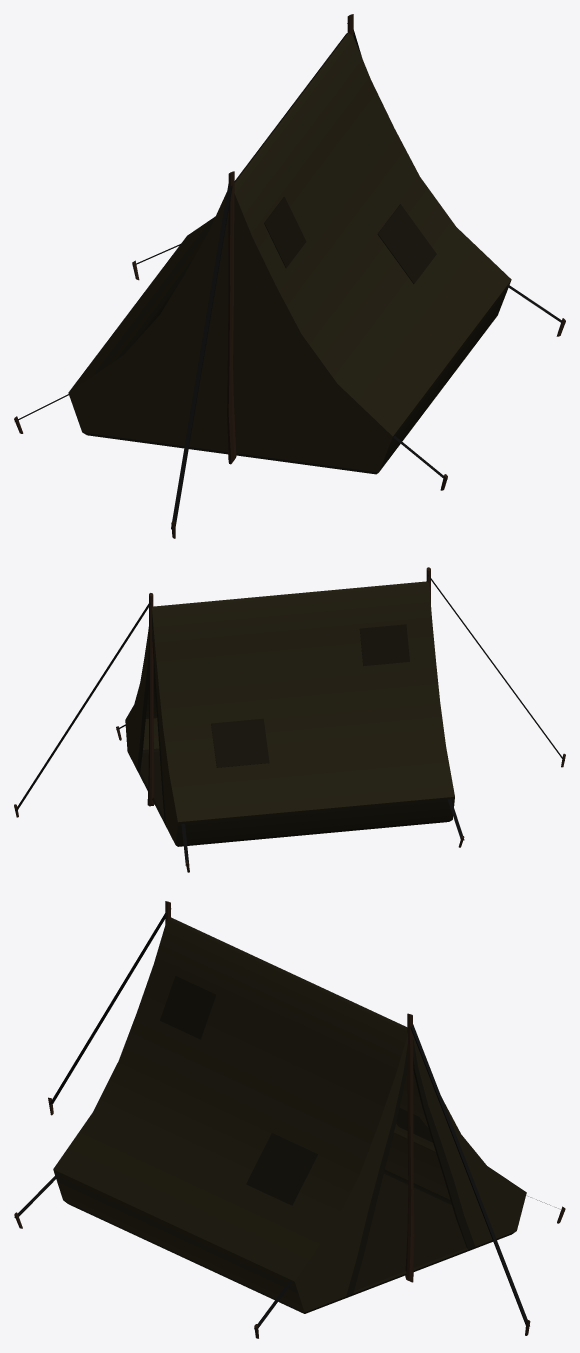
File: Tent.fbx
The picture shows the model from 3 angles, top to bottom: view 1: azimuth 30°, elevation 25°; view 2: azimuth 150°, elevation 25°; view 3: azimuth 270°, elevation 25°; orthographic projection. The views are drawn at different scales.
Parts seen in each view (by area): view 1: Tent; view 2: Tent; view 3: Tent.
Boxes of the visible parts, <box> form: Tent: <box>14,14,565,538</box>; Tent: <box>14,567,565,872</box>; Tent: <box>14,901,565,1338</box>.
Size of the model in its own units: 1038 by 1045 by 562.
